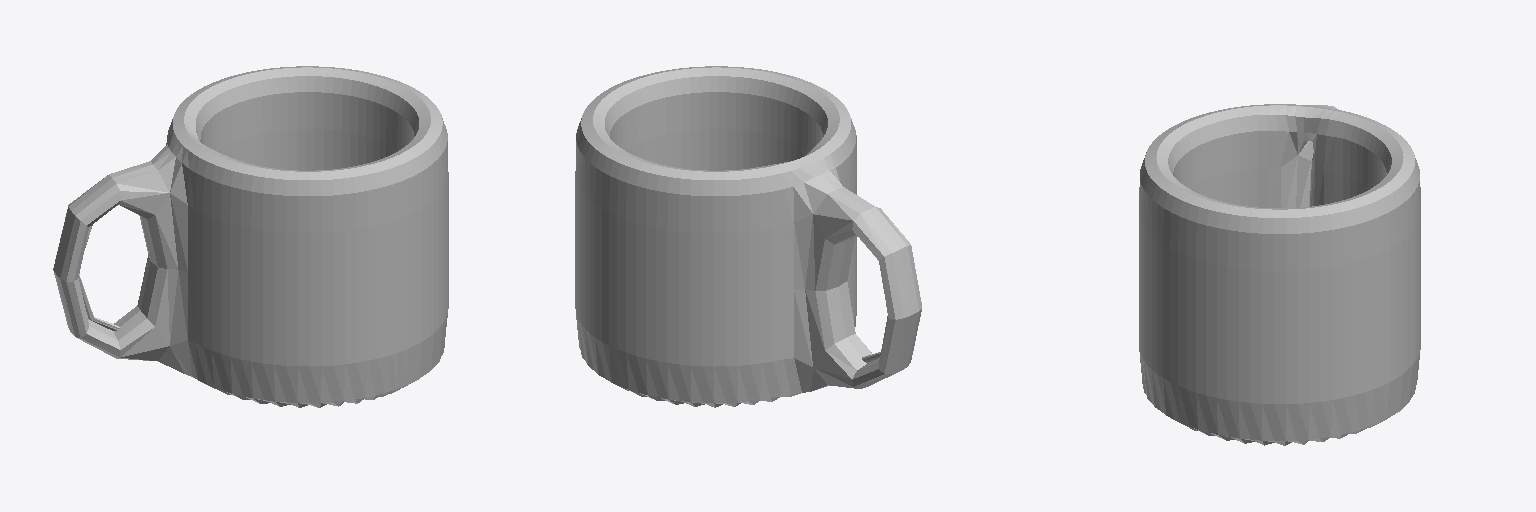
File: cup.obj
3 renders of one model, left to right at view 1: azimuth 30°, elevation 25°; view 2: azimuth 150°, elevation 25°; view 3: azimuth 270°, elevation 25°, orthographic.
Visible parts, largest first — view 1: Cylinder; view 2: Cylinder; view 3: Cylinder.
Part boxes in pixels (x1,y1,x2,y2): Cylinder: (53, 66, 448, 407); Cylinder: (575, 66, 921, 407); Cylinder: (1139, 104, 1420, 445).
Bounding box in the file's own units: 2.97 × 2.02 × 2.09.